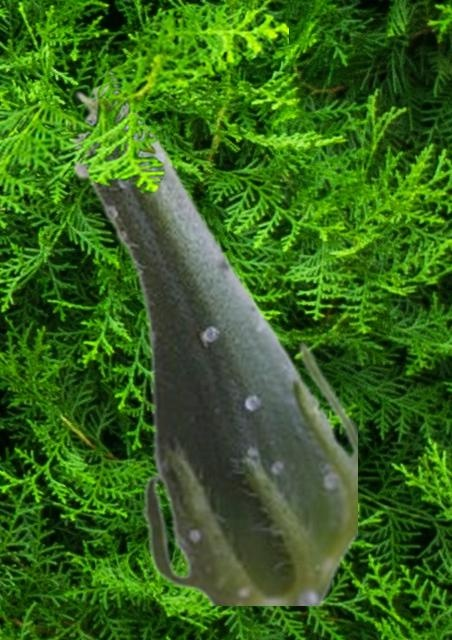okra: (70, 69, 356, 604)
